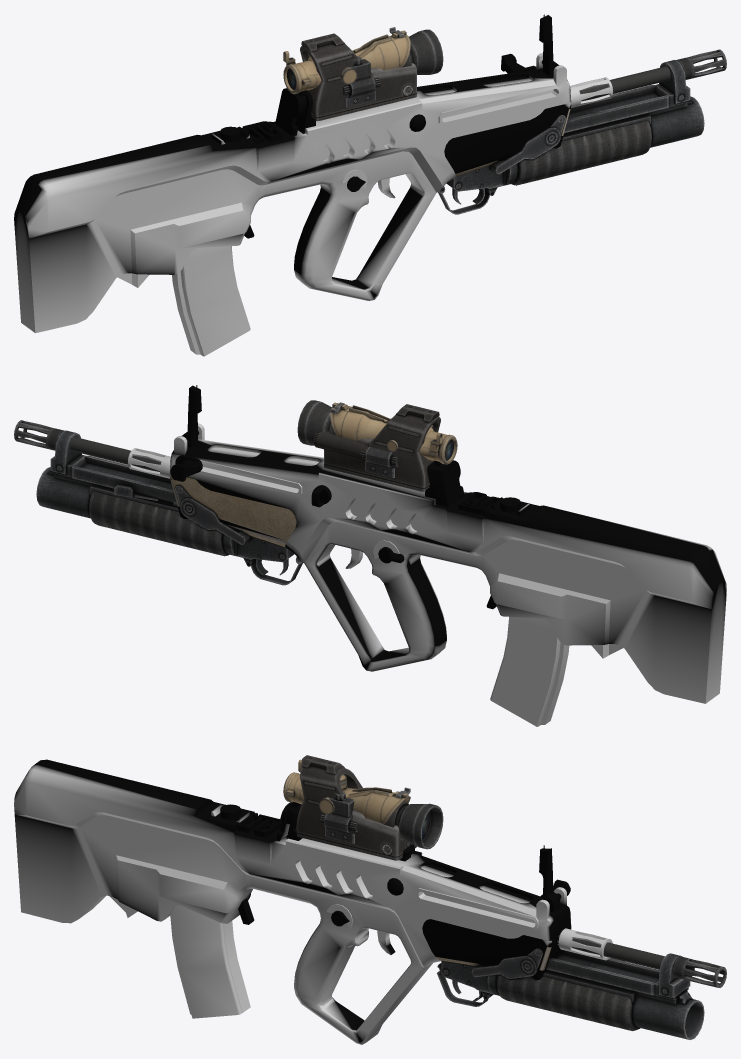
Rendered from AssaultRifle10.FBX.
The picture shows the model from 3 angles, top to bottom: view 1: azimuth 30°, elevation 25°; view 2: azimuth 150°, elevation 25°; view 3: azimuth 330°, elevation 25°; orthographic projection.
Parts seen in each view (by area): view 1: AssaultRifle10_Body01, AssaultRifle10_Imp02, AssaultRifle10_Imp03, AssaultRifle10_Body02, AssaultRifle10_Imp05, AssaultRifle10_Imp04, AssaultRifle10_Imp01, AssaultRifle10_Body03; view 2: AssaultRifle10_Body01, AssaultRifle10_Imp02, AssaultRifle10_Imp03, AssaultRifle10_Imp05, AssaultRifle10_Imp01, AssaultRifle10_Imp04, AssaultRifle10_Body03; view 3: AssaultRifle10_Body01, AssaultRifle10_Imp02, AssaultRifle10_Imp03, AssaultRifle10_Body02, AssaultRifle10_Imp04, AssaultRifle10_Imp05, AssaultRifle10_Imp01, AssaultRifle10_Body03.
Part boxes in pixels (bbox=[...]): AssaultRifle10_Body01: bbox=[14, 14, 571, 356]; AssaultRifle10_Imp02: bbox=[438, 60, 704, 214]; AssaultRifle10_Imp03: bbox=[300, 33, 416, 121]; AssaultRifle10_Body02: bbox=[444, 102, 571, 173]; AssaultRifle10_Imp05: bbox=[283, 27, 410, 94]; AssaultRifle10_Imp04: bbox=[343, 29, 443, 107]; AssaultRifle10_Imp01: bbox=[580, 49, 726, 101]; AssaultRifle10_Body03: bbox=[570, 77, 612, 107]; AssaultRifle10_Body01: bbox=[169, 385, 726, 726]; AssaultRifle10_Imp02: bbox=[36, 430, 302, 585]; AssaultRifle10_Imp03: bbox=[314, 404, 440, 491]; AssaultRifle10_Imp05: bbox=[330, 402, 457, 464]; AssaultRifle10_Imp01: bbox=[14, 420, 161, 471]; AssaultRifle10_Imp04: bbox=[297, 400, 397, 477]; AssaultRifle10_Body03: bbox=[127, 448, 170, 478]; AssaultRifle10_Body01: bbox=[14, 759, 571, 1044]; AssaultRifle10_Imp02: bbox=[436, 946, 704, 1039]; AssaultRifle10_Imp03: bbox=[296, 755, 416, 860]; AssaultRifle10_Body02: bbox=[422, 919, 571, 980]; AssaultRifle10_Imp04: bbox=[320, 792, 443, 849]; AssaultRifle10_Imp05: bbox=[283, 759, 410, 823]; AssaultRifle10_Imp01: bbox=[557, 932, 726, 987]; AssaultRifle10_Body03: bbox=[557, 928, 612, 960].
Bounding box in the file's own units: 0.8719 × 0.3369 × 0.0921.
